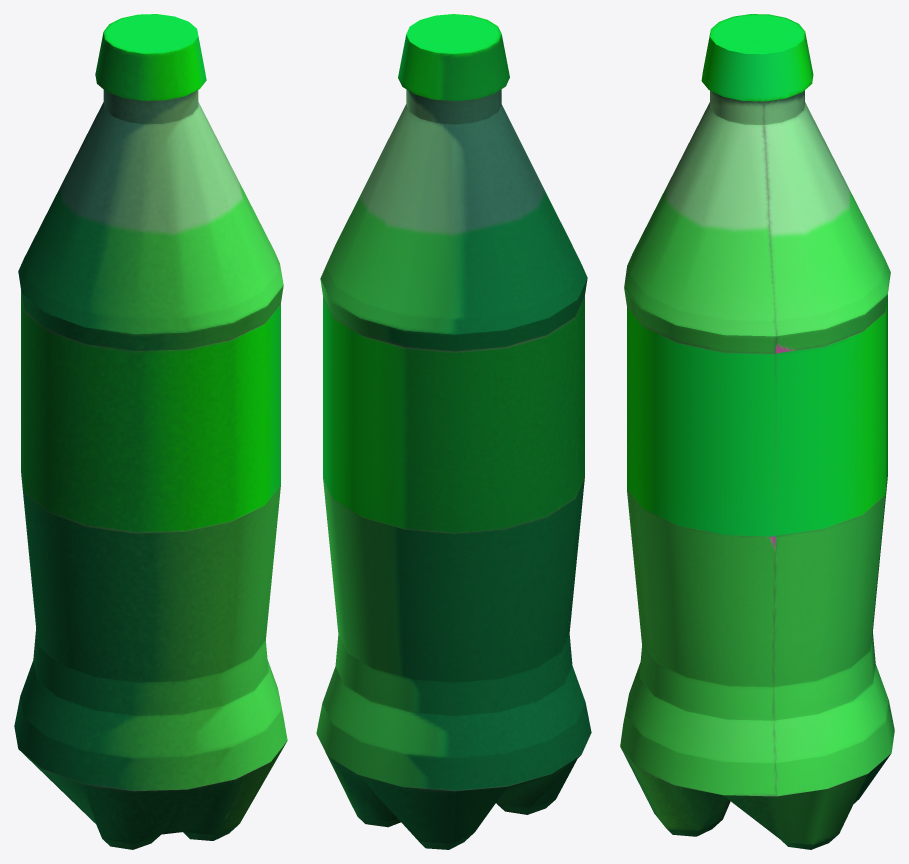
File: refresco_1.fbx
3 renders of one model, left to right at view 1: azimuth 30°, elevation 25°; view 2: azimuth 150°, elevation 25°; view 3: azimuth 270°, elevation 25°, orthographic.
Parts seen in each view (by area): view 1: refresco; view 2: refresco; view 3: refresco.
Boxes of the visible parts, box(x1,y1,x2,y2) form: refresco: box(14, 14, 287, 849); refresco: box(316, 14, 591, 849); refresco: box(620, 14, 894, 849).
Size of the model in its own units: 0.1998 by 0.6282 by 0.1998.
1 material, 1 textured.
